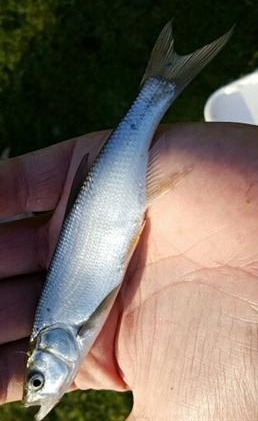Aspius aspius: (20, 20, 238, 421)
